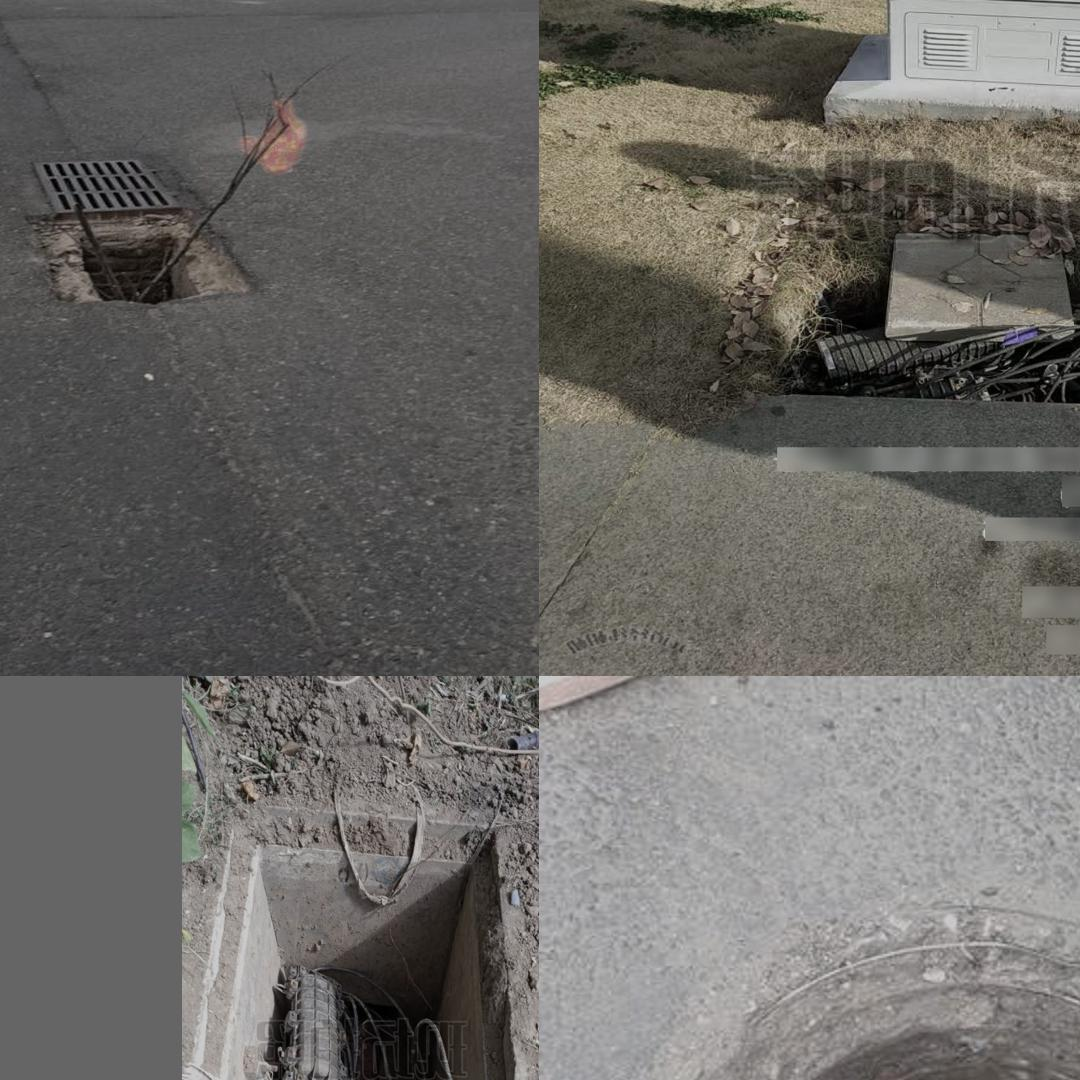lose: (182, 822, 529, 1080), (0, 111, 303, 338), (756, 215, 1080, 410), (623, 949, 1080, 1080)
